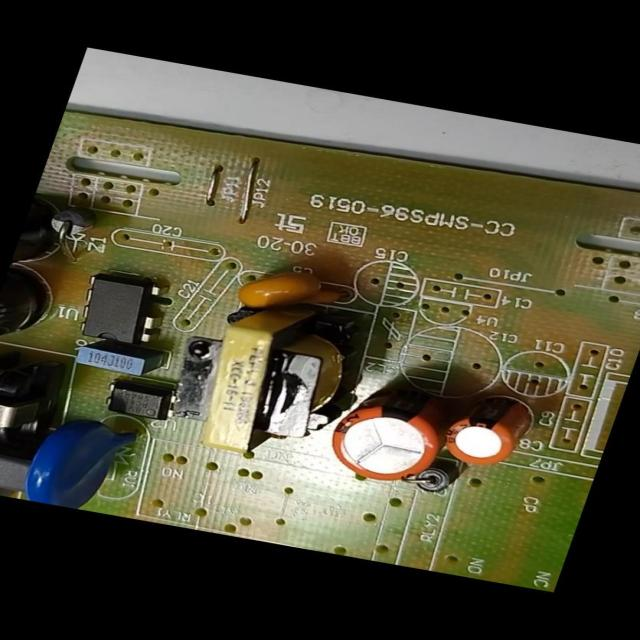Cap1: (316, 375, 460, 490)
Cap2: (435, 387, 538, 472)
Cap3: (0, 289, 49, 369)
Cap4: (2, 200, 74, 295)
MOSFET: (68, 272, 172, 350)
Mov: (15, 412, 142, 515)
Resistor: (0, 479, 15, 498)
Transformer: (160, 299, 371, 467), (0, 360, 57, 451)
